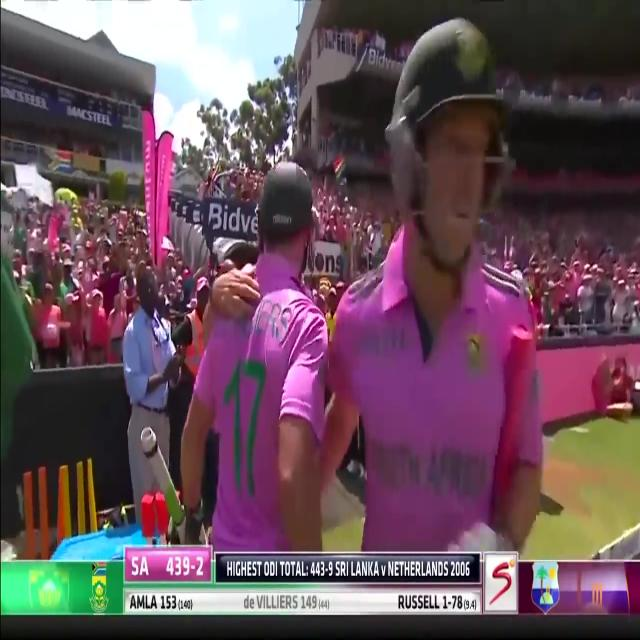Ball: (277, 0, 588, 553)
